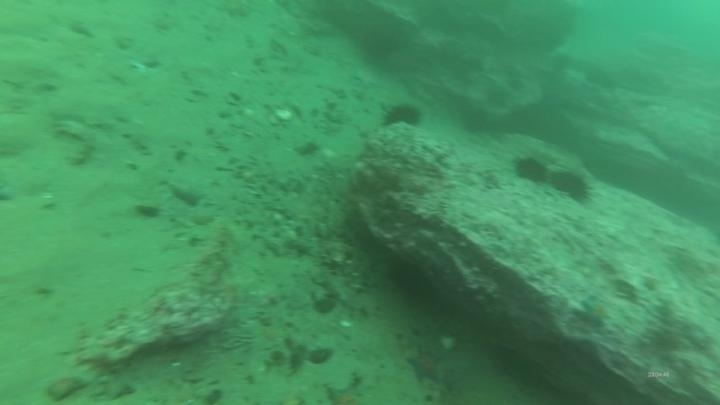echinus: (548, 167, 594, 205), (380, 99, 425, 131), (511, 153, 552, 187)
starfish: (404, 348, 449, 387), (577, 293, 615, 329), (323, 377, 369, 403)
